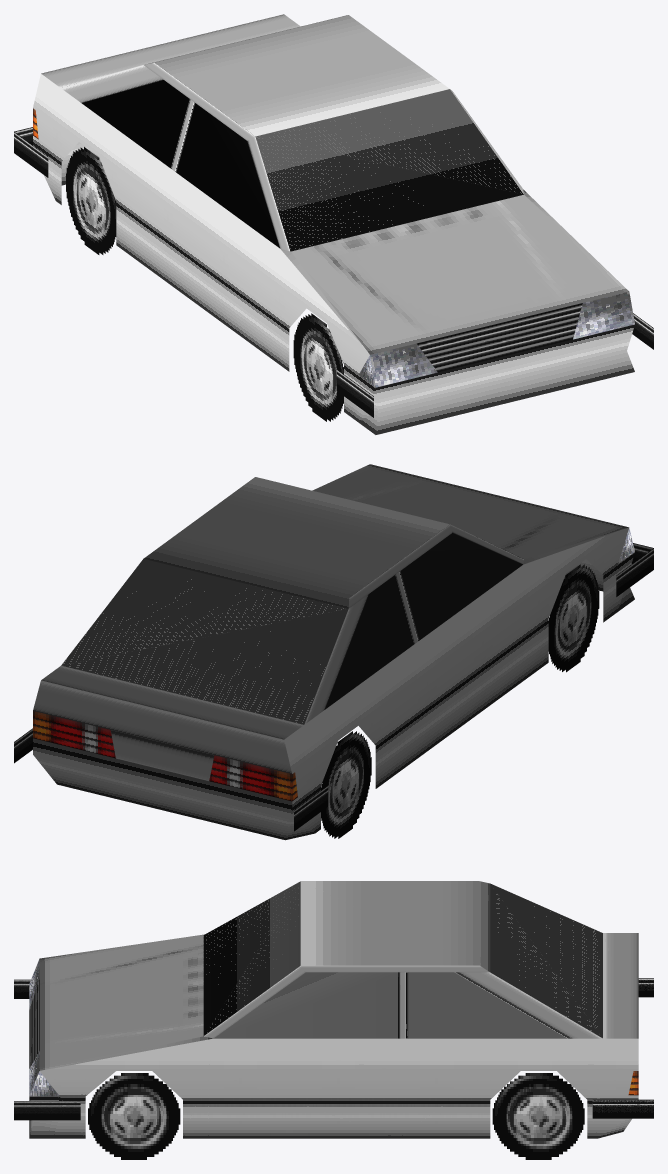
File: PcarescortZ.obj
The picture shows the model from 3 angles, top to bottom: view 1: azimuth 30°, elevation 25°; view 2: azimuth 150°, elevation 25°; view 3: azimuth 270°, elevation 25°; orthographic projection. The views are drawn at different scales.
Bounding box in the file's own units: 900 × 628 × 2006.
12 materials, 12 textured.
